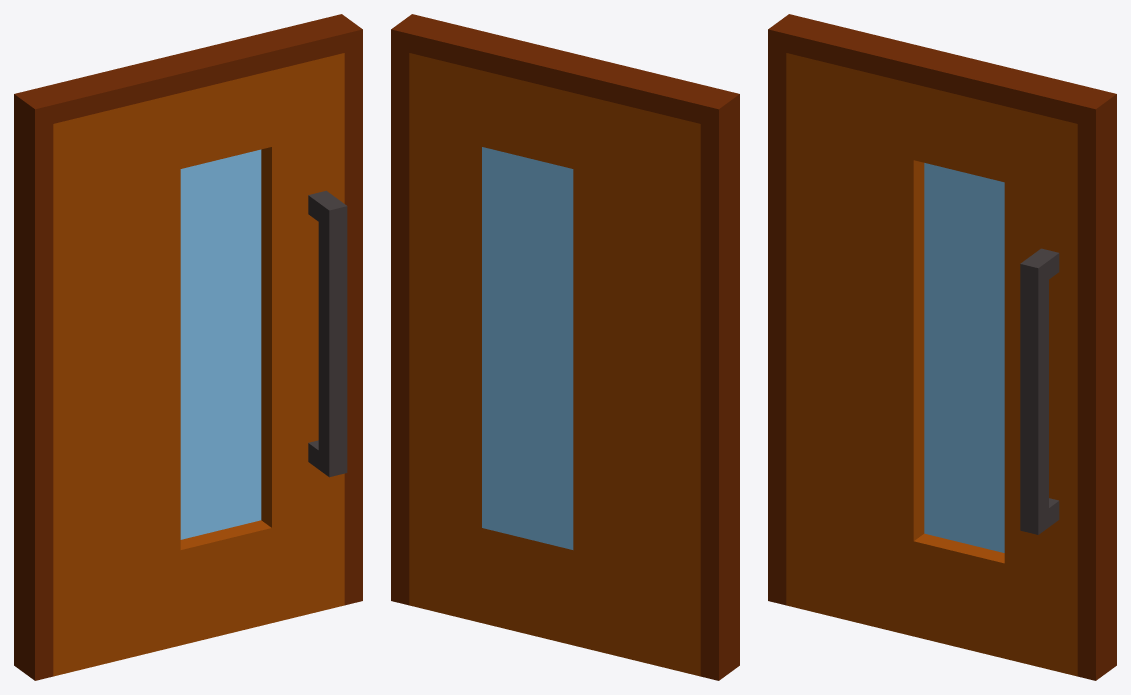
File: porta comum.obj
The picture shows the model from 3 angles, left to right: view 1: azimuth 30°, elevation 25°; view 2: azimuth 150°, elevation 25°; view 3: azimuth 330°, elevation 25°; orthographic projection.
Bounding box in the file's own units: 1.8 × 3 × 0.4.
1 material, 1 textured.
